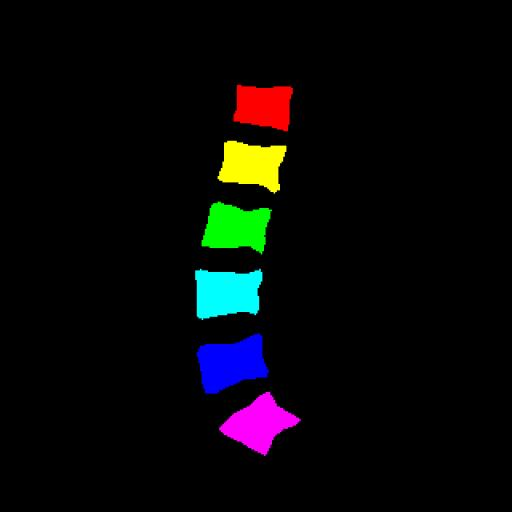L1: (236, 86, 292, 130)
L2: (218, 140, 287, 193)
L3: (202, 202, 271, 254)
L4: (195, 270, 262, 319)
L5: (197, 334, 268, 392)
S1: (219, 392, 300, 455)
